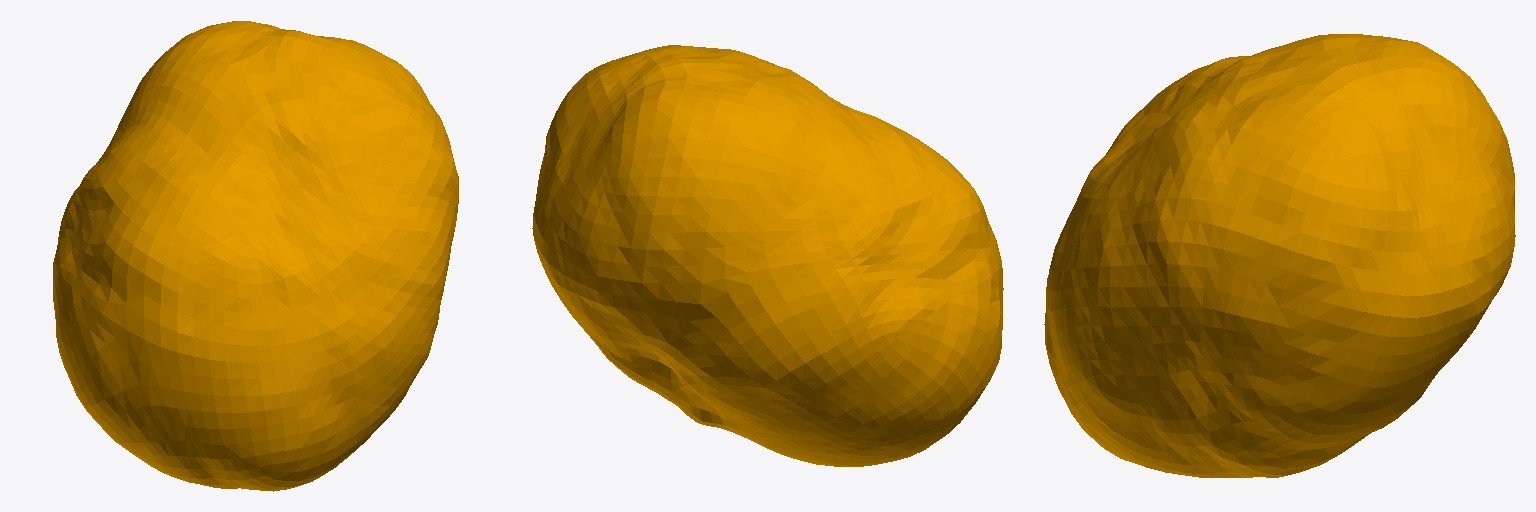
robot.urdf — rock:
<?xml version="1.0" ?>
<robot name="rock">
  <link name="rock">
    <inertial>
      <mass value="0.278"/>
      <origin rpy="0 0 0" xyz="0 0 0"/>
      <inertia ixx="0.000278" ixy="0" ixz="0" iyy="0.000278" iyz="0" izz="0.000278"/>
    </inertial>
    <collision name="rock_collision">
      <origin rpy="0 0 0" xyz="0 0 0"/>
      <geometry>
        <mesh filename="package://rocks/visual/70.dae" scale="1 1 1"/>
      </geometry>
    </collision>
    <visual name="rock_visual">
      <origin rpy="0 0 0" xyz="0 0 0"/>
      <geometry>
        <mesh filename="package://rocks/visual/70.dae" scale="1 1 1"/>
      </geometry>
    </visual>
  </link>
</robot>

--- What the picture shows (computed from the rendered views, not written in the file) ---
3 views of the same robot in one strip: view 1: azimuth 30°, elevation 25°; view 2: azimuth 150°, elevation 25°; view 3: azimuth 270°, elevation 25° (orthographic).
Robot: rock — 1 links, 0 joints (none); root link rock; default pose: all joints at 0.
Visible links, largest first — view 1: rock; view 2: rock; view 3: rock.
Link boxes in pixels (x1,y1,x2,y2): rock: (53,21,458,491); rock: (532,45,1003,466); rock: (1044,34,1515,477).
Bounding box of the posed robot: 0.073 × 0.0665 × 0.0694 m (x, y, z).
1 mesh visuals loaded from 1 distinct referenced files (1 Collada DAE).